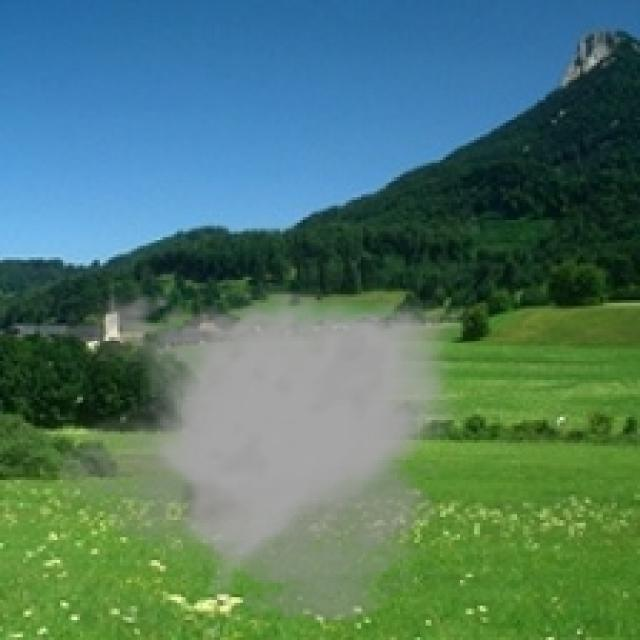smoke: (57, 283, 472, 628)
